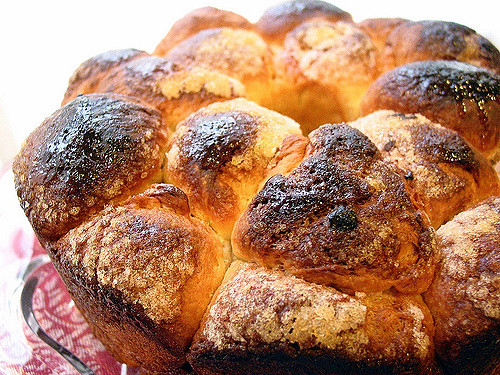slice of bread: (28, 5, 495, 359)
